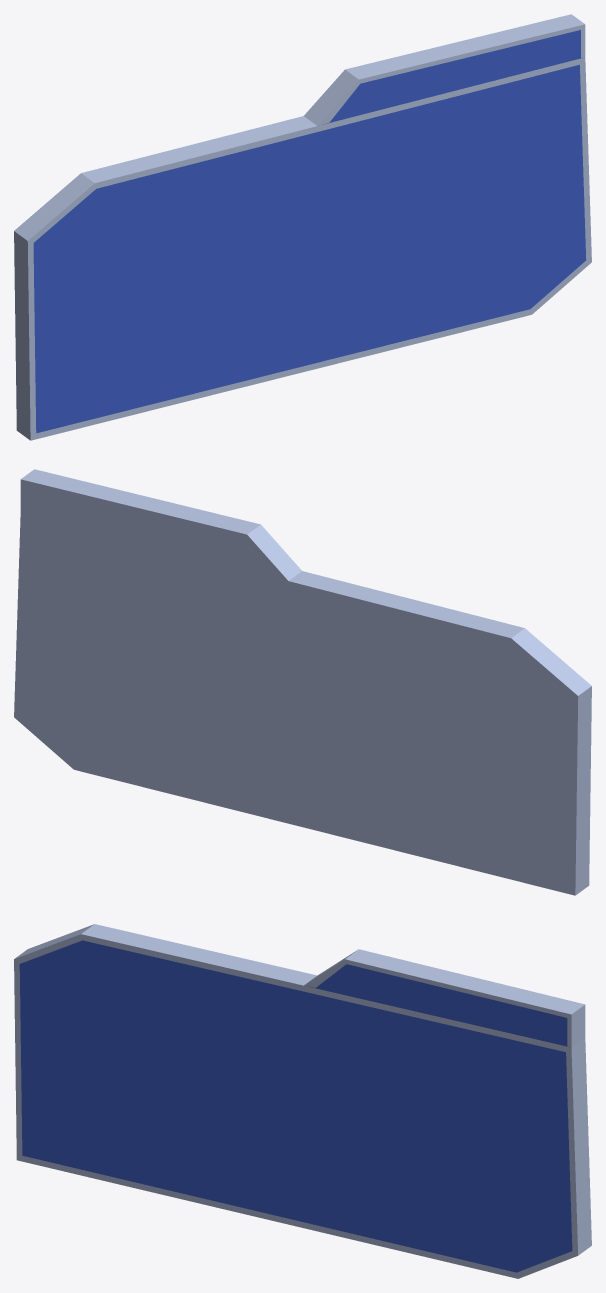
Rendered from MenuButton.fbx.
3 renders of one model, top to bottom at view 1: azimuth 30°, elevation 25°; view 2: azimuth 150°, elevation 25°; view 3: azimuth 330°, elevation 25°, orthographic.
Parts seen in each view (by area): view 1: Cube; view 2: Cube; view 3: Cube.
Boxes of the visible parts, x1,y1,x2,y2 form: Cube: (14, 14, 591, 440); Cube: (14, 469, 591, 895); Cube: (14, 924, 591, 1278).
Size of the model in its own units: 225 by 107 by 9.54.
